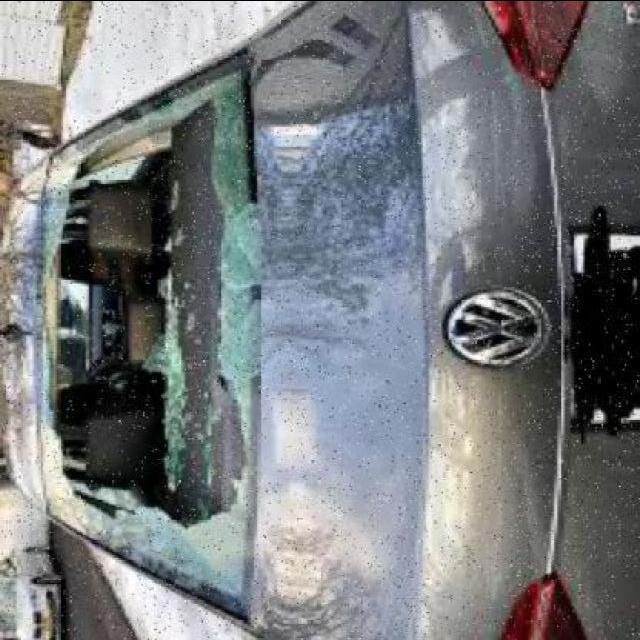Rear-windscreen-Damage: (27, 86, 251, 603)
